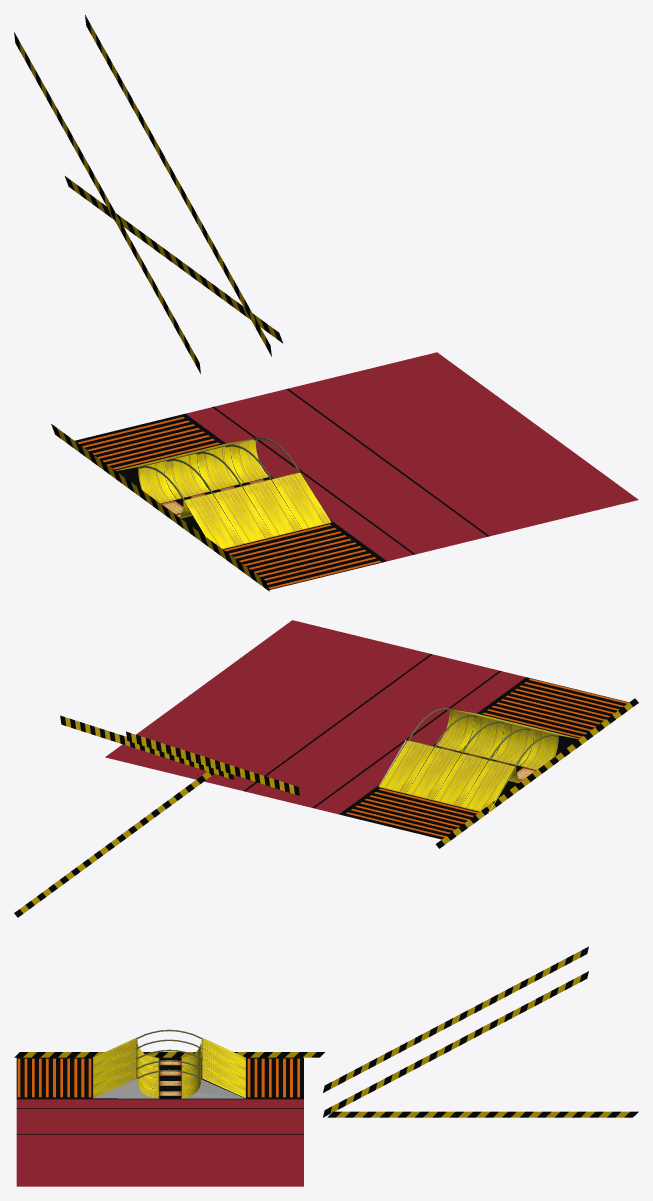
3 views of the same model, one above another, from view 1: azimuth 30°, elevation 25°; view 2: azimuth 150°, elevation 25°; view 3: azimuth 270°, elevation 25° (orthographic). The views are drawn at different scales.
Visible parts, largest first — view 1: Plane.002; view 2: Plane.002; view 3: Plane.002.
Boxes of the visible parts, bbox=[...] form: Plane.002: bbox=[14, 15, 638, 591]; Plane.002: bbox=[14, 620, 638, 917]; Plane.002: bbox=[14, 946, 638, 1186].
Bounding box in the file's own units: 25.37 × 15.06 × 51.82.
9 materials, 3 textured.
